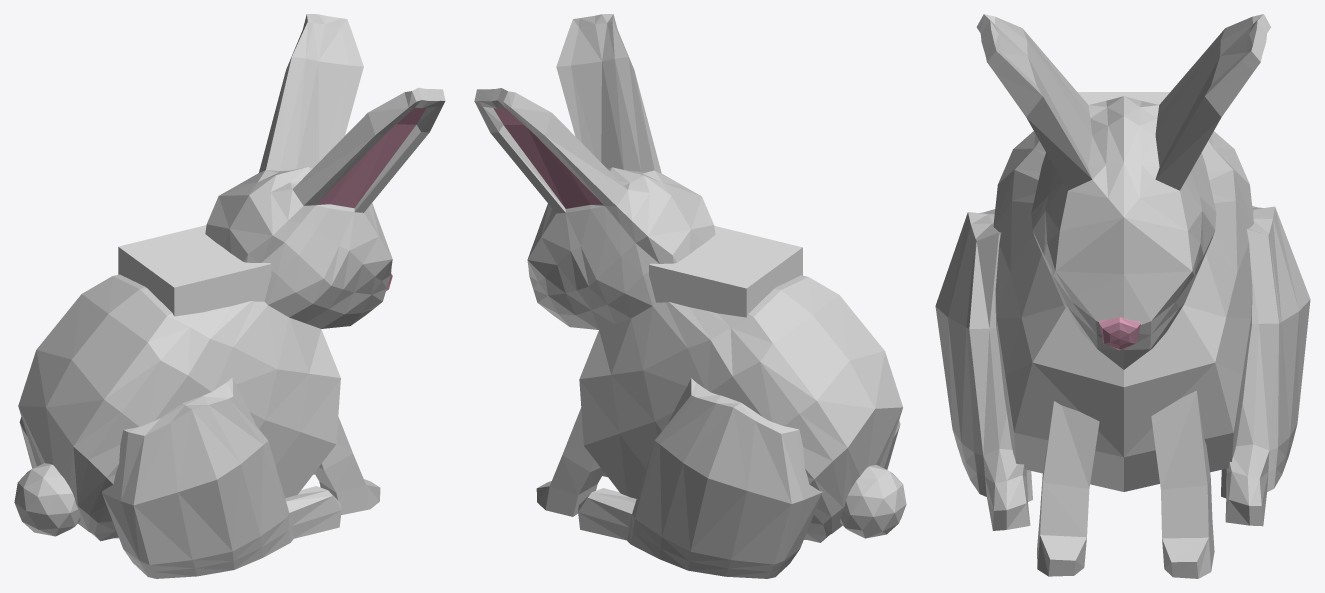
Rendered from rabbit.glb.
The picture shows the model from 3 angles, left to right: view 1: azimuth 30°, elevation 25°; view 2: azimuth 150°, elevation 25°; view 3: azimuth 270°, elevation 25°; orthographic projection. The views are drawn at different scales.
Parts seen in each view (by area): view 1: Cube.001, Cube_001, Cube, Icosphere, Cube_002; view 2: Cube.001, Cube_001, Cube, Icosphere, Cube_002; view 3: Cube.001, Cube_001, Cube_002, Sphere, Cube.
Boxes of the visible parts, box(x1,y1,x2,y2) form: Cube.001: box(18, 14, 445, 541); Cube_001: box(19, 377, 341, 578); Cube: box(118, 225, 271, 316); Icosphere: box(14, 463, 80, 536); Cube_002: box(313, 417, 380, 514); Cube.001: box(474, 14, 902, 542); Cube_001: box(578, 378, 900, 578); Cube: box(649, 226, 802, 317); Icosphere: box(840, 465, 906, 538); Cube_002: box(536, 407, 607, 516); Cube.001: box(976, 14, 1270, 491); Cube_001: box(935, 206, 1310, 530); Cube_002: box(1037, 390, 1214, 578); Sphere: box(1098, 317, 1141, 350); Cube: box(1077, 92, 1169, 104).
Size of the model in its own units: 7.71 by 8.51 by 5.02.
